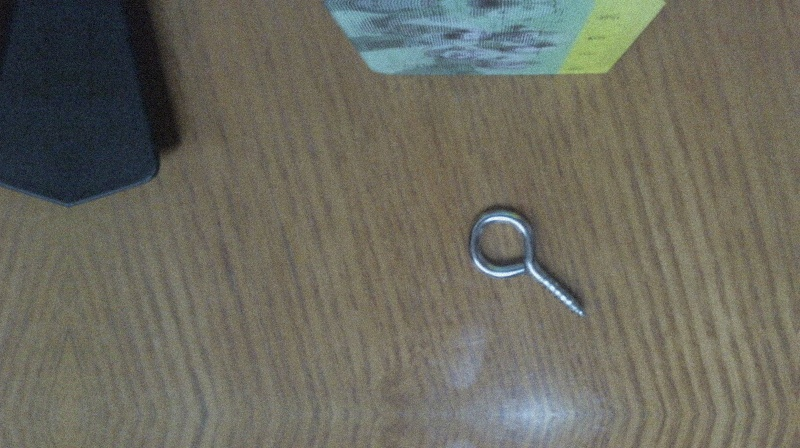O001: (465, 204, 589, 321)
